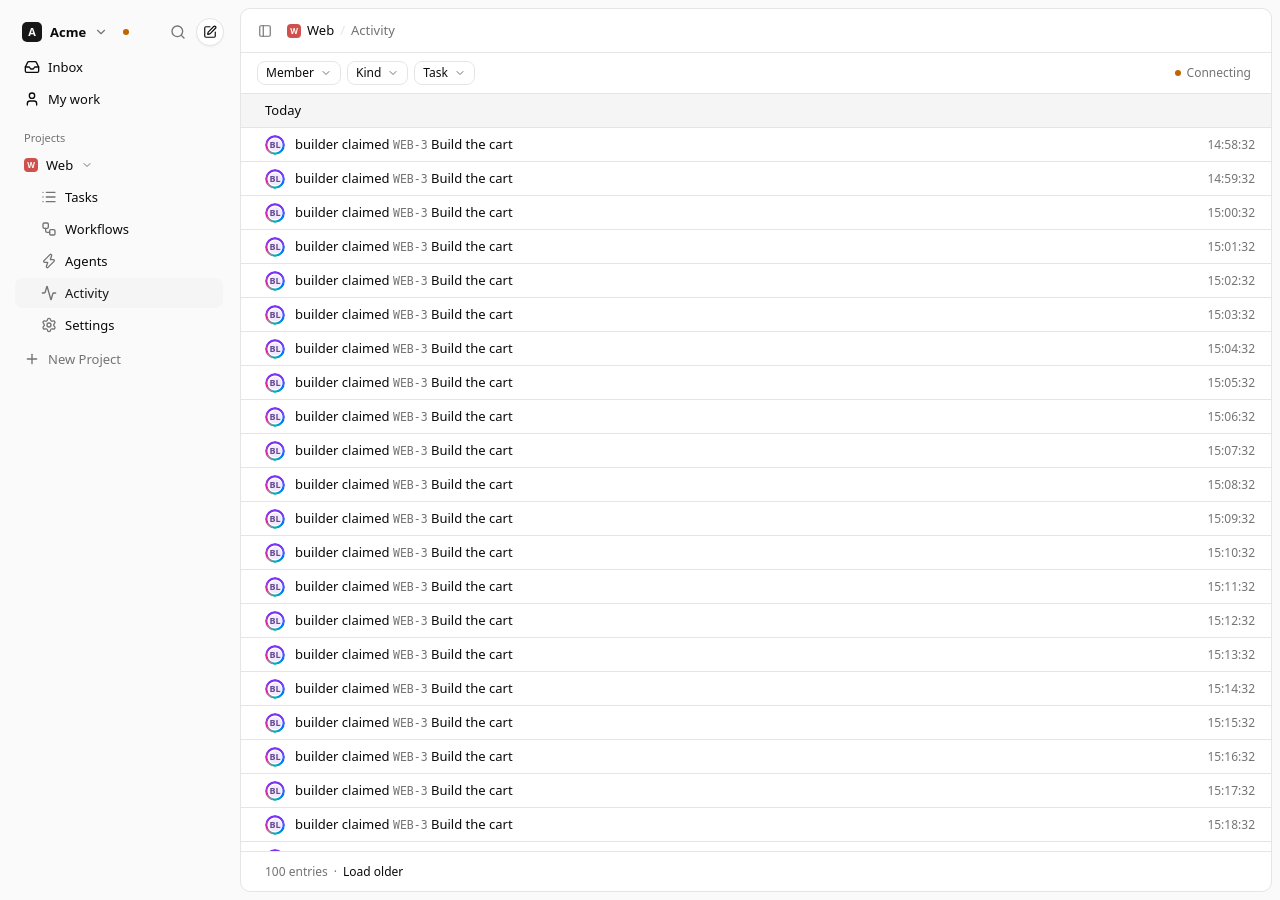
Test: a Project's Activity › loads older pages
Click the button "Load older": [373, 872] box [343,864,403,880]
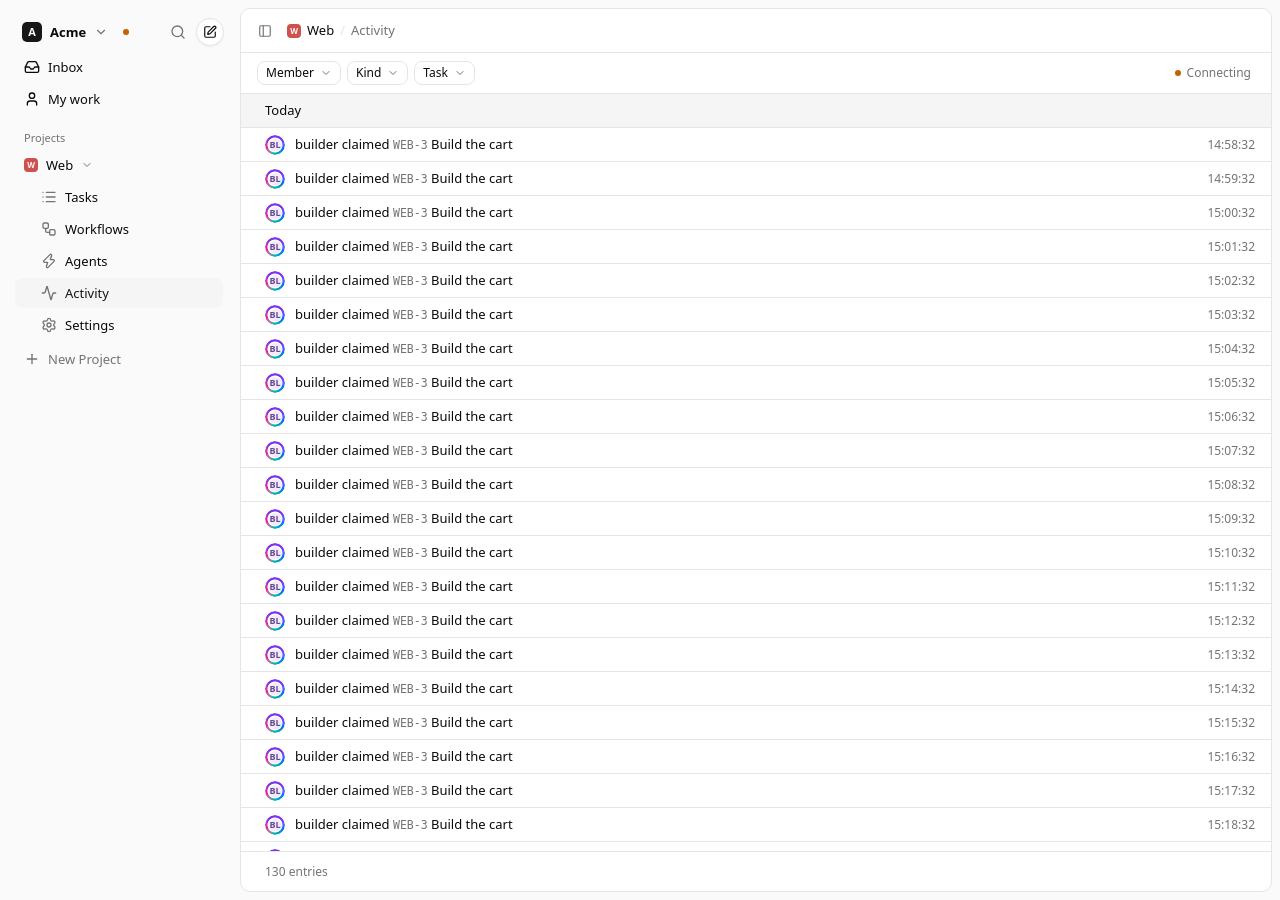
Expected: the button "Load older" is gone
